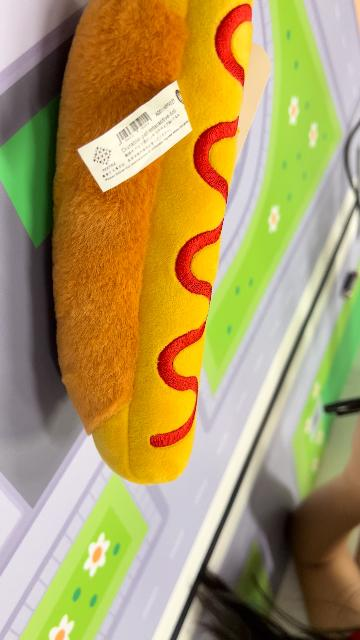hotdog: (50, 1, 255, 486)
